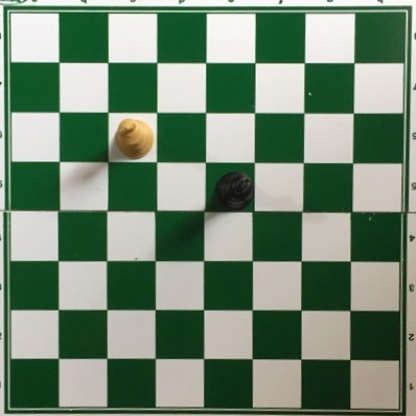black-king: (215, 170, 254, 210)
white-king: (114, 117, 153, 159)
